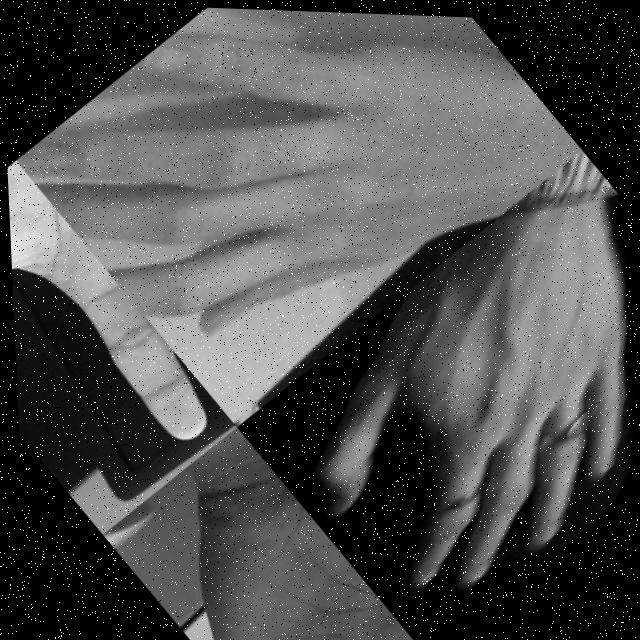hand: (9, 0, 592, 436), (237, 142, 640, 640), (6, 160, 238, 537), (120, 452, 434, 640)
